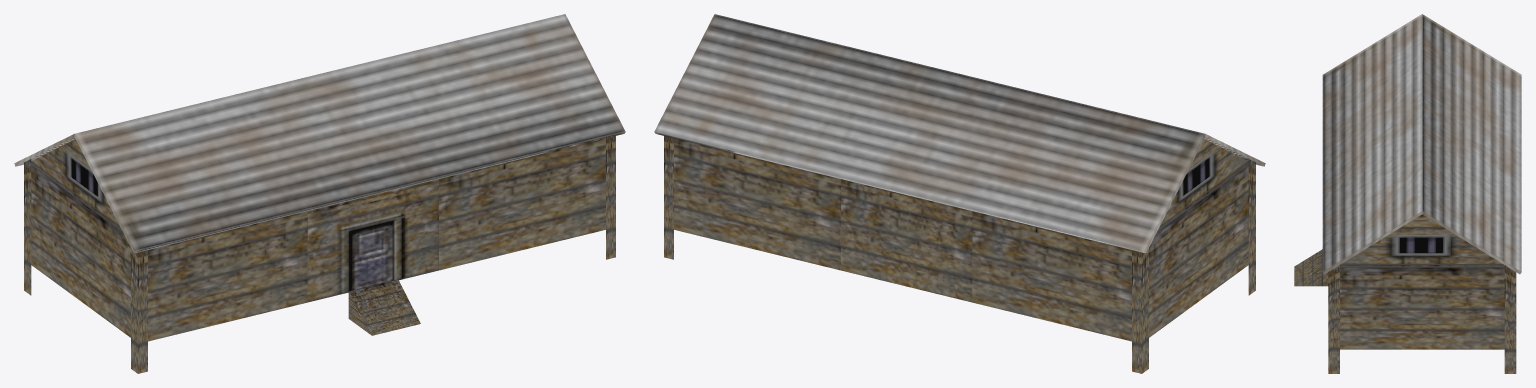
The model's file is s_barracks.glb.
3 views of the same model, side by side, from view 1: azimuth 30°, elevation 25°; view 2: azimuth 150°, elevation 25°; view 3: azimuth 270°, elevation 25° (orthographic). The views are drawn at different scales.
Visible parts, largest first — view 1: Box03; view 2: Box03; view 3: Box03.
Part boxes in pixels (bbox=[...]): Box03: bbox=[14, 14, 625, 373]; Box03: bbox=[654, 14, 1265, 373]; Box03: bbox=[1294, 14, 1521, 373].
Bounding box in the file's own units: 19.05 × 7.42 × 9.27.
Materials: 2 (2 with a texture image).
